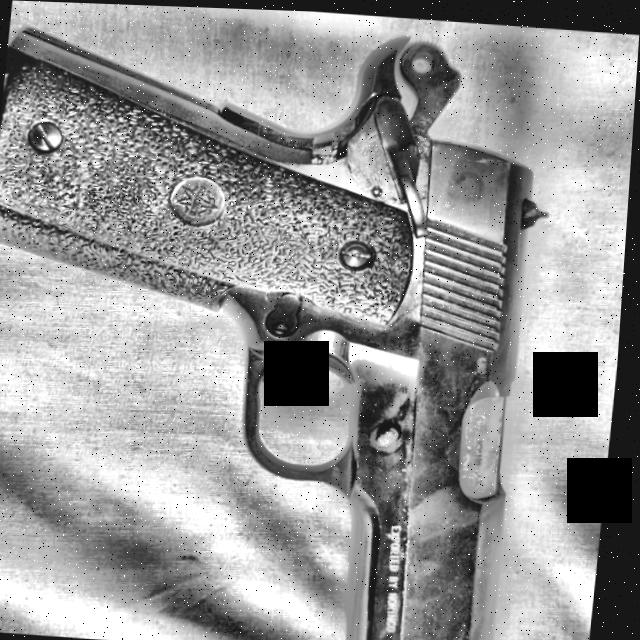Norinco: (0, 7, 572, 640)
